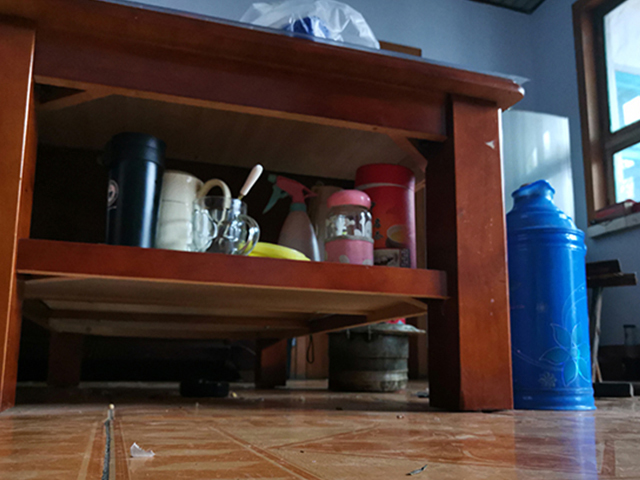table: (1, 1, 527, 414)
